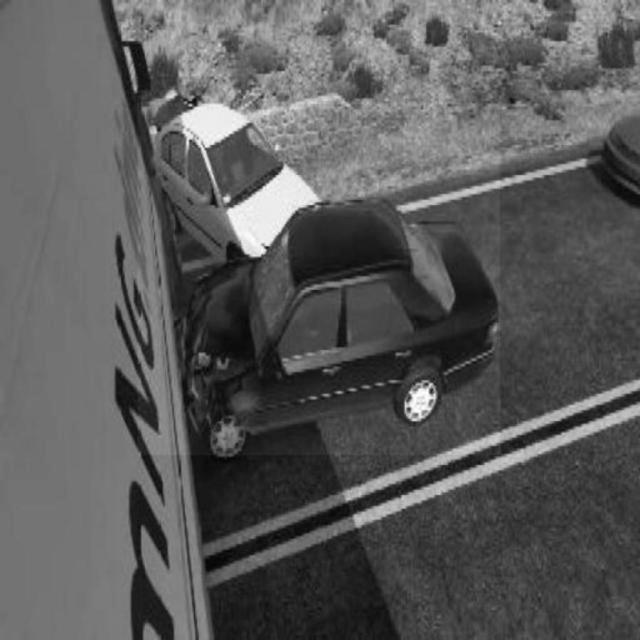accident: (138, 103, 500, 455)
